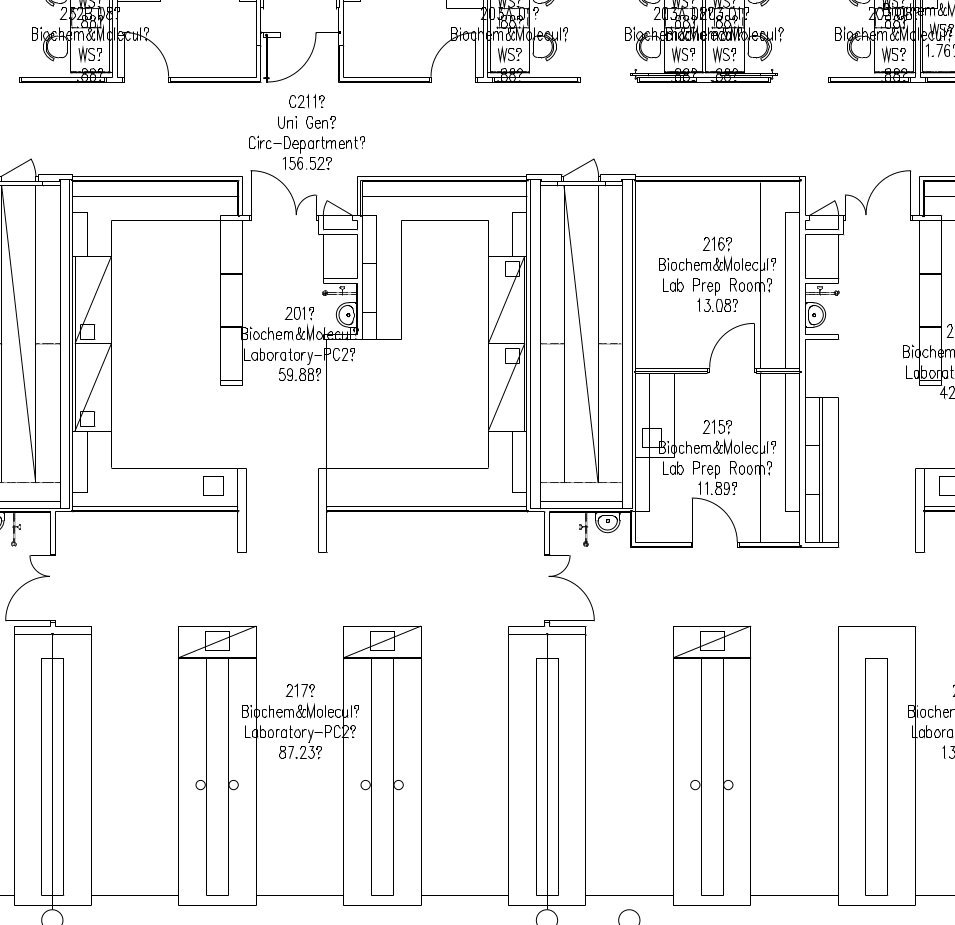door: (246, 166, 321, 225), (544, 548, 602, 624), (1, 548, 57, 624), (843, 162, 913, 218), (700, 318, 757, 376), (687, 493, 744, 551), (262, 32, 317, 90), (122, 25, 177, 83), (426, 30, 481, 88)
